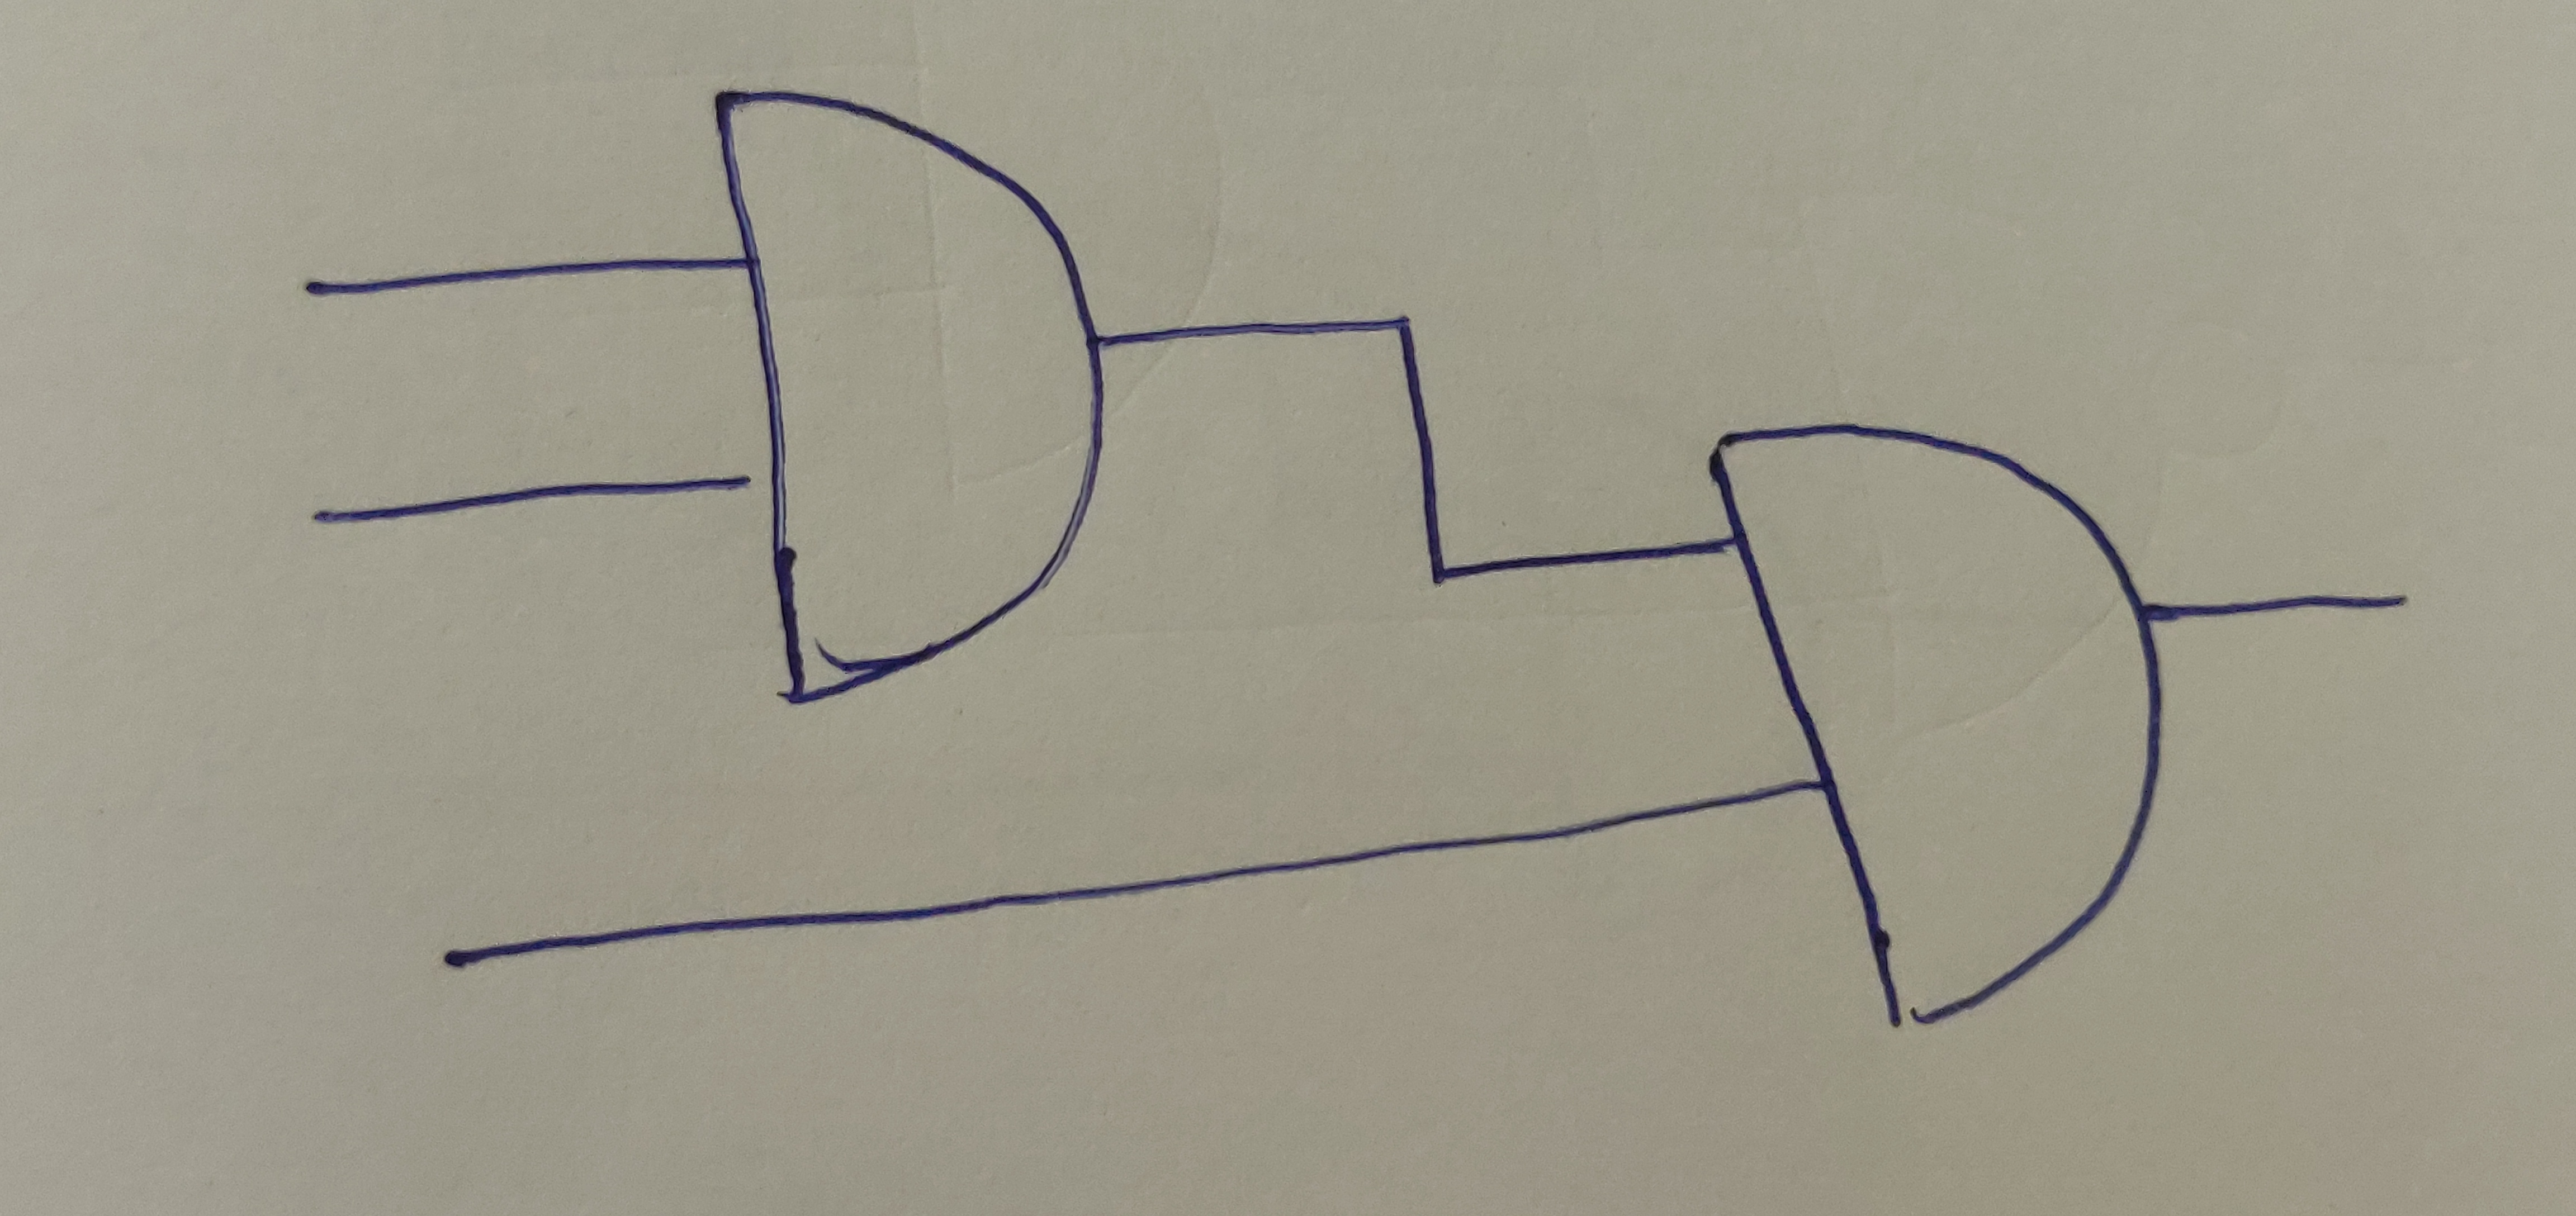and: (1705, 429, 2165, 1025), (708, 85, 1099, 693)
